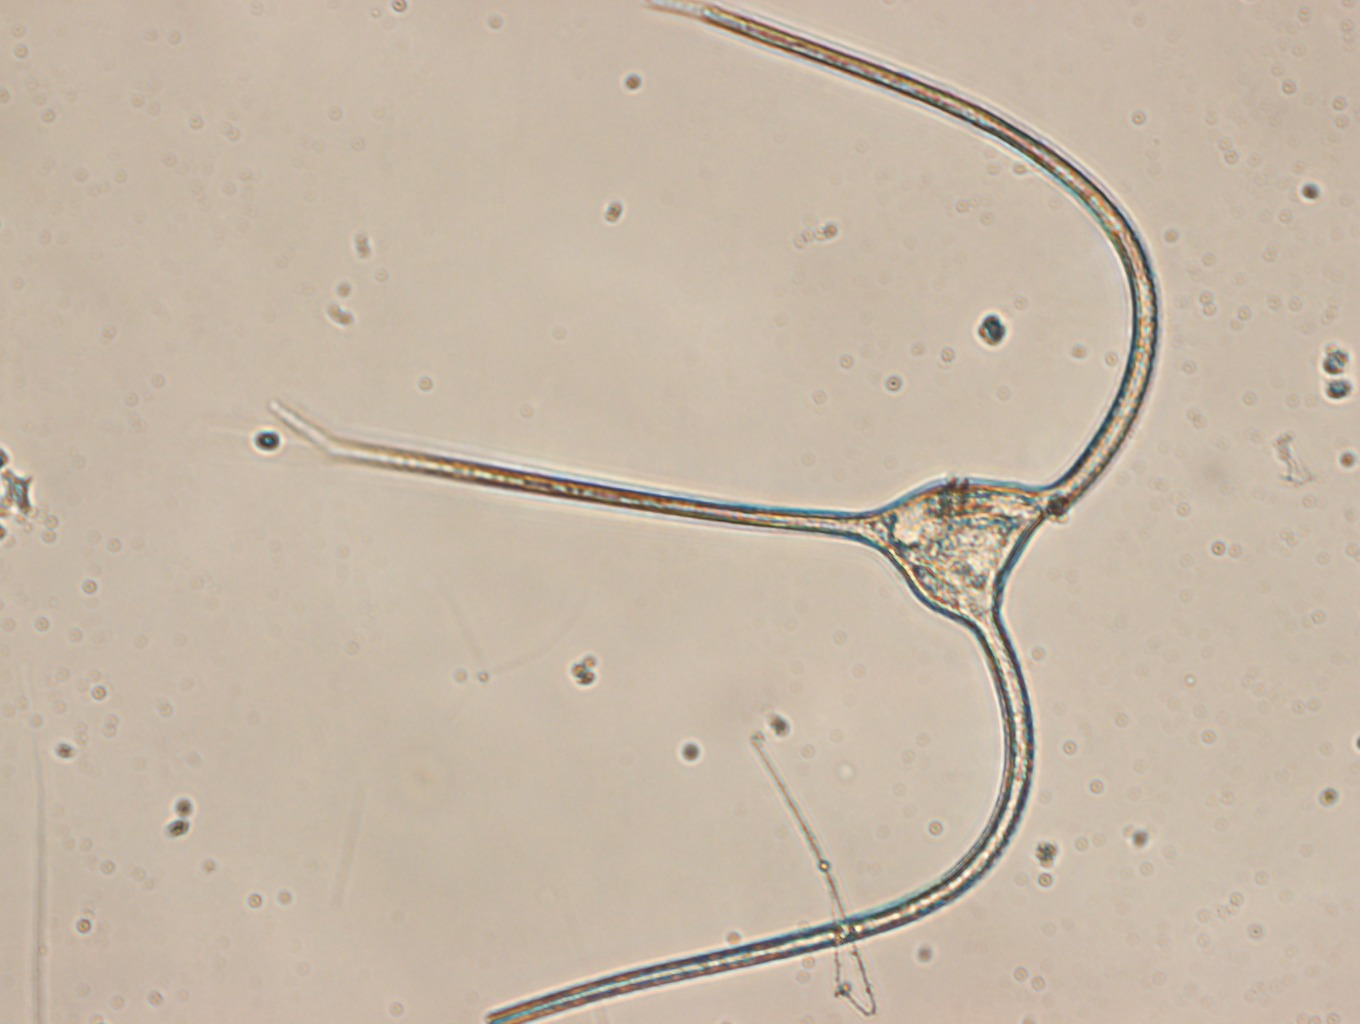ceratium trichoceros: (283, 1, 1160, 1023)
